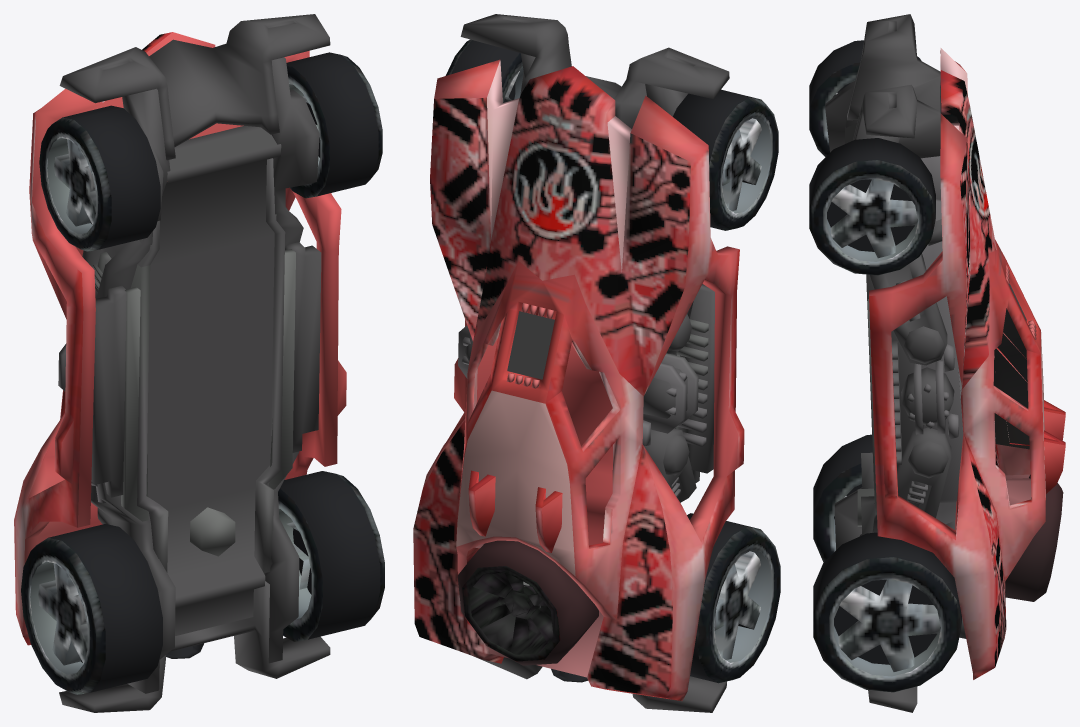
3 views of the same model, side by side, from view 1: azimuth 30°, elevation 25°; view 2: azimuth 150°, elevation 25°; view 3: azimuth 270°, elevation 25° (orthographic). The views are drawn at different scales.
Visible parts, largest first — view 1: "rd_chrome", Body, wheel_rr, wheel_fr, wheel_rl, wheel_fl, "rd_glass", "rd_extrawheel"; view 2: Body, "rd_chrome", "rd_extrawheel", wheel_rr, wheel_fr, "rd_glass", wheel_fl; view 3: Body, "rd_chrome", wheel_rl, wheel_fl, wheel_rr, "rd_glass", "rd_extrawheel", wheel_fr.
Part boxes in pixels (left/top/right/bottom): "rd_chrome": left=58, top=14, right=330, bottom=712; Body: left=14, top=32, right=346, bottom=645; wheel_rr: left=21, top=524, right=162, bottom=694; wheel_fr: left=39, top=105, right=160, bottom=251; wheel_rl: left=278, top=471, right=384, bottom=641; wheel_fl: left=286, top=52, right=382, bottom=198; "rd_glass": left=121, top=249, right=295, bottom=521; "rd_extrawheel": left=190, top=507, right=235, bottom=556; Body: left=413, top=59, right=744, bottom=701; "rd_chrome": left=458, top=14, right=729, bottom=712; "rd_extrawheel": left=457, top=540, right=598, bottom=665; wheel_rr: left=687, top=513, right=780, bottom=683; wheel_fr: left=673, top=89, right=778, bottom=230; "rd_glass": left=507, top=311, right=679, bottom=429; wheel_fl: left=445, top=39, right=523, bottom=102; Body: left=869, top=48, right=1065, bottom=679; "rd_chrome": left=825, top=14, right=966, bottom=712; wheel_rl: left=813, top=532, right=961, bottom=692; wheel_fl: left=809, top=138, right=935, bottom=275; wheel_rr: left=813, top=434, right=872, bottom=562; "rd_glass": left=867, top=284, right=1029, bottom=515; "rd_extrawheel": left=857, top=474, right=1063, bottom=601; wheel_fr: left=809, top=40, right=921, bottom=156.
Bounding box in the file's own units: 2.81 × 6.07 × 2.33.
1 material, 1 textured.
